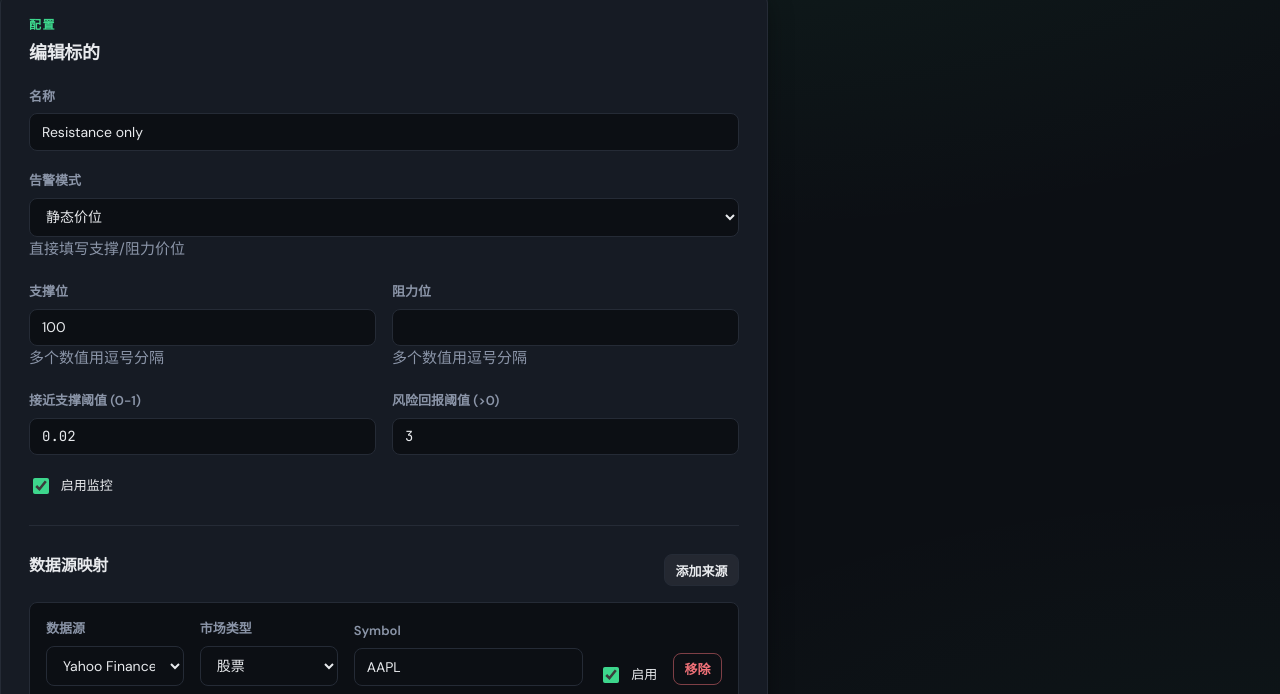
InstrumentForm › requires the near-support threshold when support exists
Clear the number field labelled "接近支撑阈值 (0-1)" at coordinates (202, 436), box [29, 418, 376, 455]
(page scrolled)
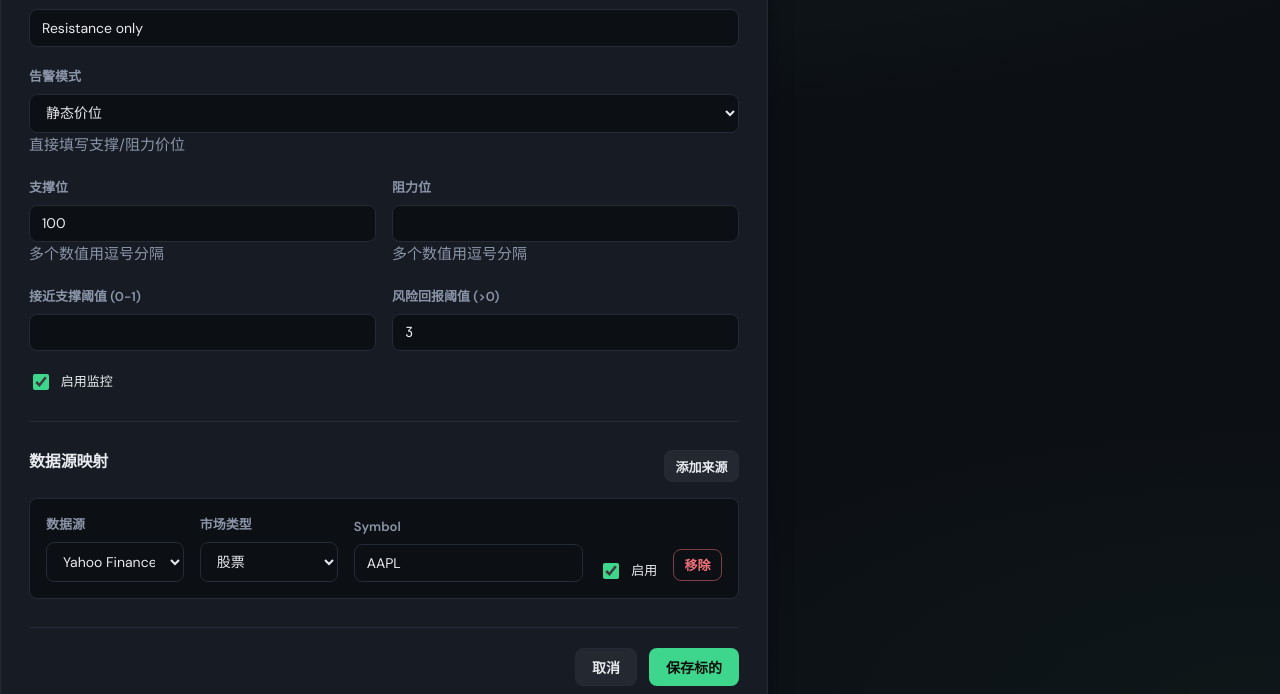
Click the button "保存标的".
click(694, 667)  # box [649, 648, 739, 686]
(page scrolled)
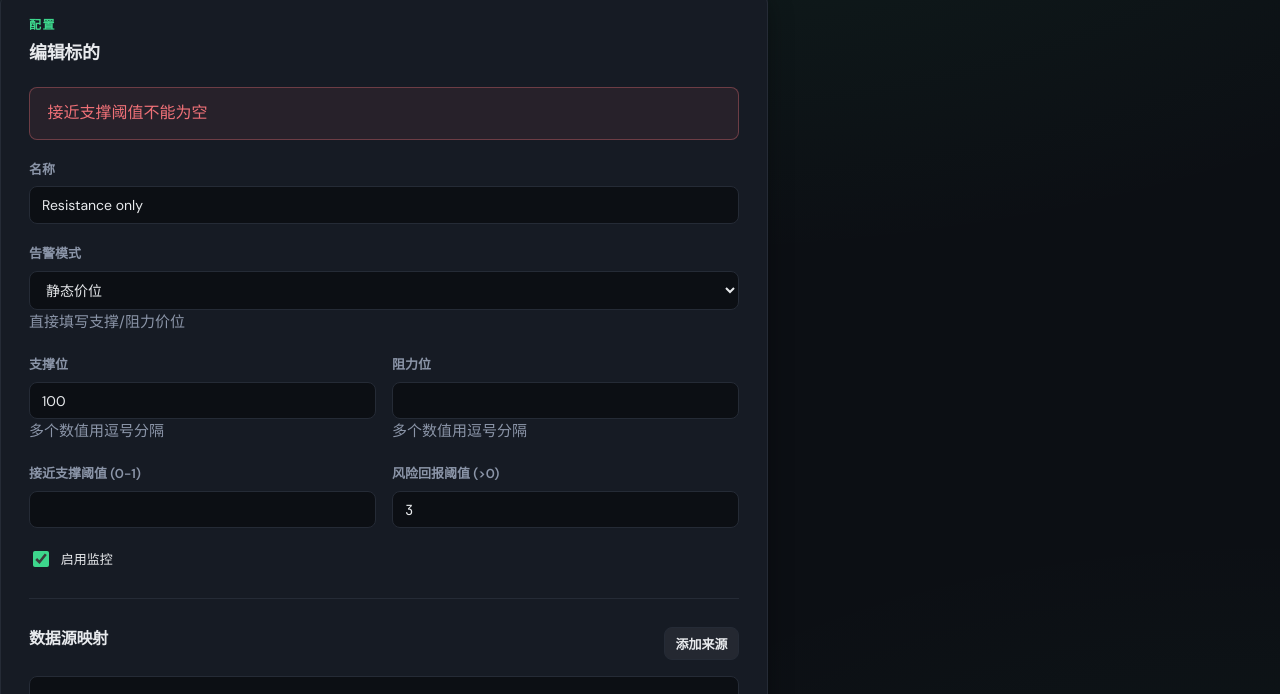
Result: the message reads "接近支撑阈值不能为空" at [48, 102, 208, 123]
